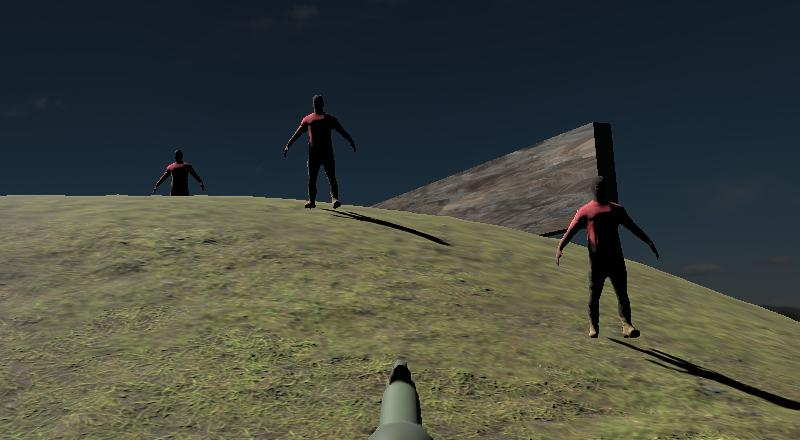Human: (555, 175, 659, 339), (284, 94, 356, 211)
